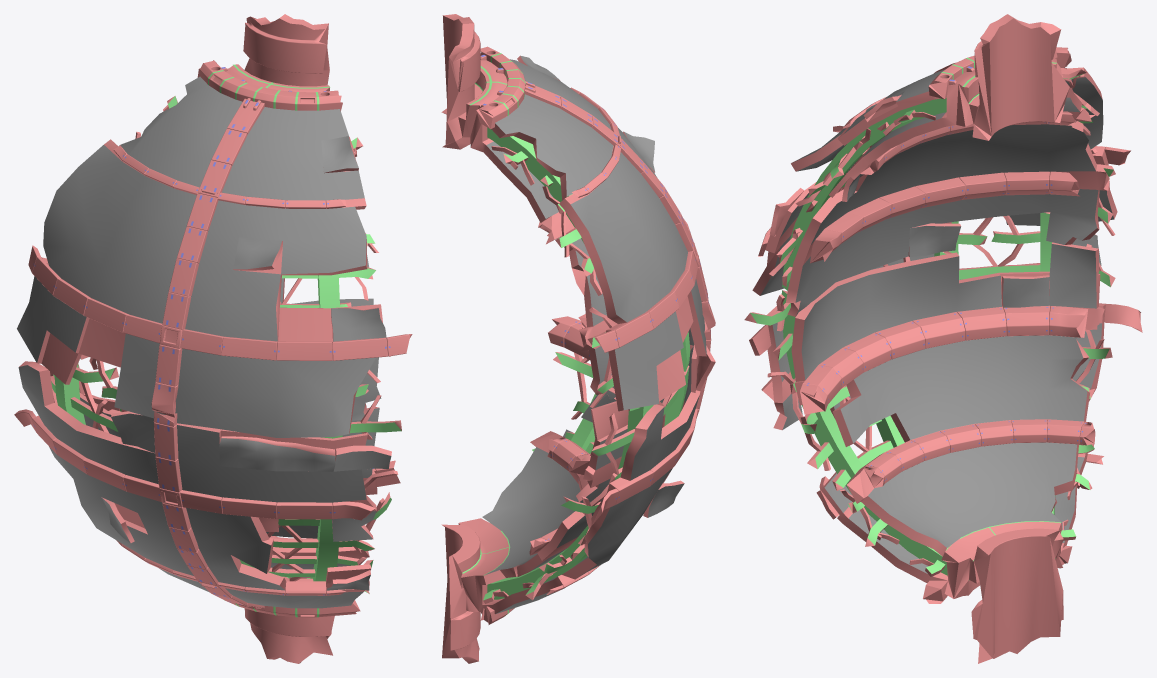
Rendered from SM_IceStationMetall_01.gltf.
The picture shows the model from 3 angles, left to right: view 1: azimuth 30°, elevation 25°; view 2: azimuth 150°, elevation 25°; view 3: azimuth 270°, elevation 25°; orthographic projection.
Parts seen in each view (by area): view 1: SM_IceStationMetall_01; view 2: SM_IceStationMetall_01; view 3: SM_IceStationMetall_01.
Boxes of the visible parts, x1,y1,x2,y2 form: SM_IceStationMetall_01: [14, 14, 412, 663]; SM_IceStationMetall_01: [441, 14, 715, 663]; SM_IceStationMetall_01: [744, 14, 1142, 663].
Size of the model in its own units: 303 by 715 by 403.
